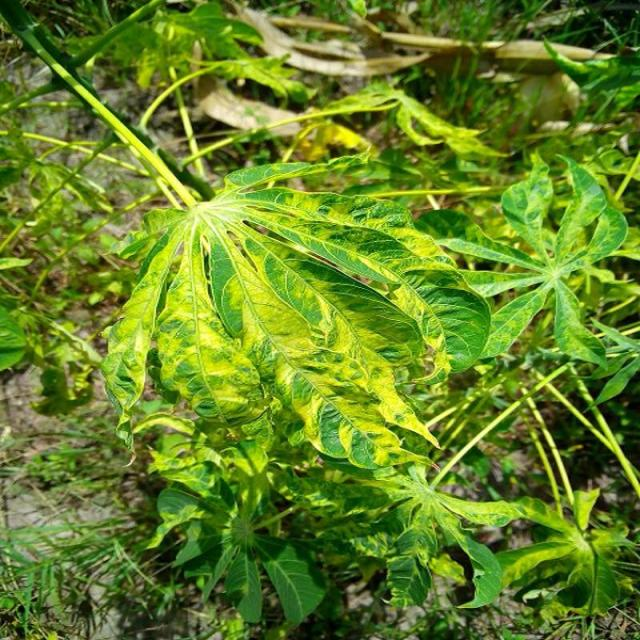cassava leaf: (101, 162, 493, 475)
